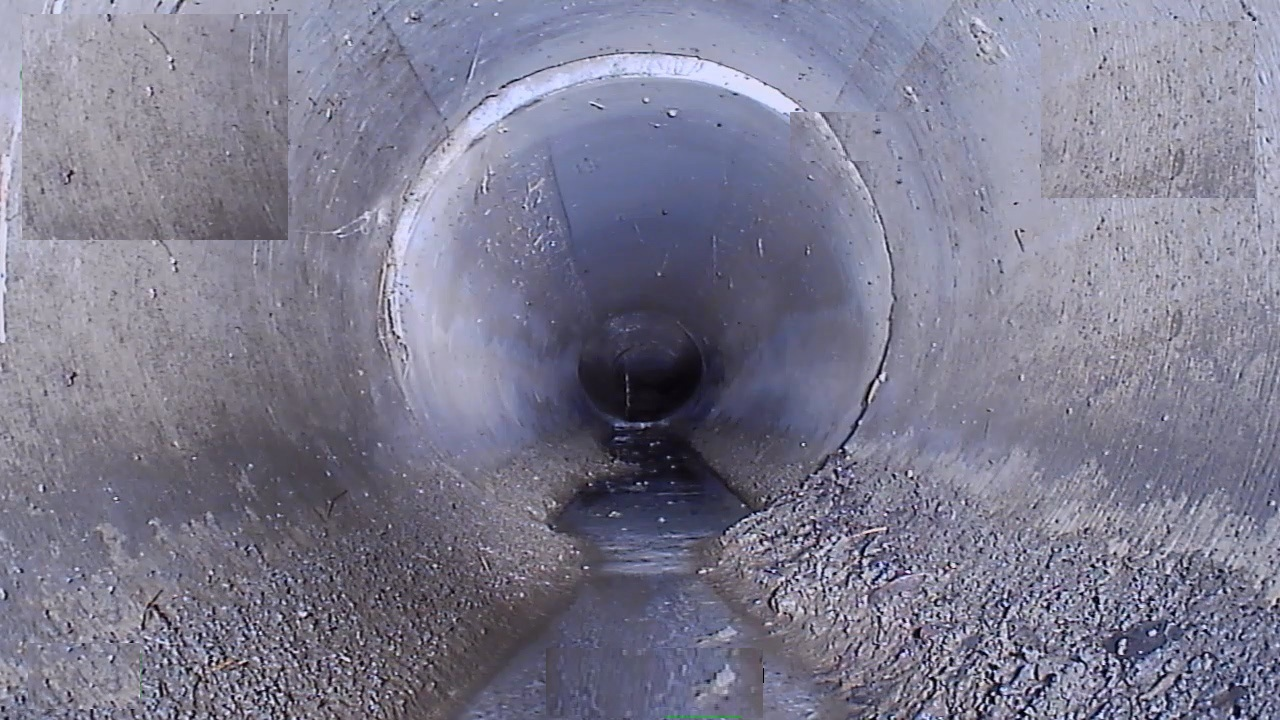circle1: (376, 52, 897, 542)
circle2: (580, 307, 704, 421)
